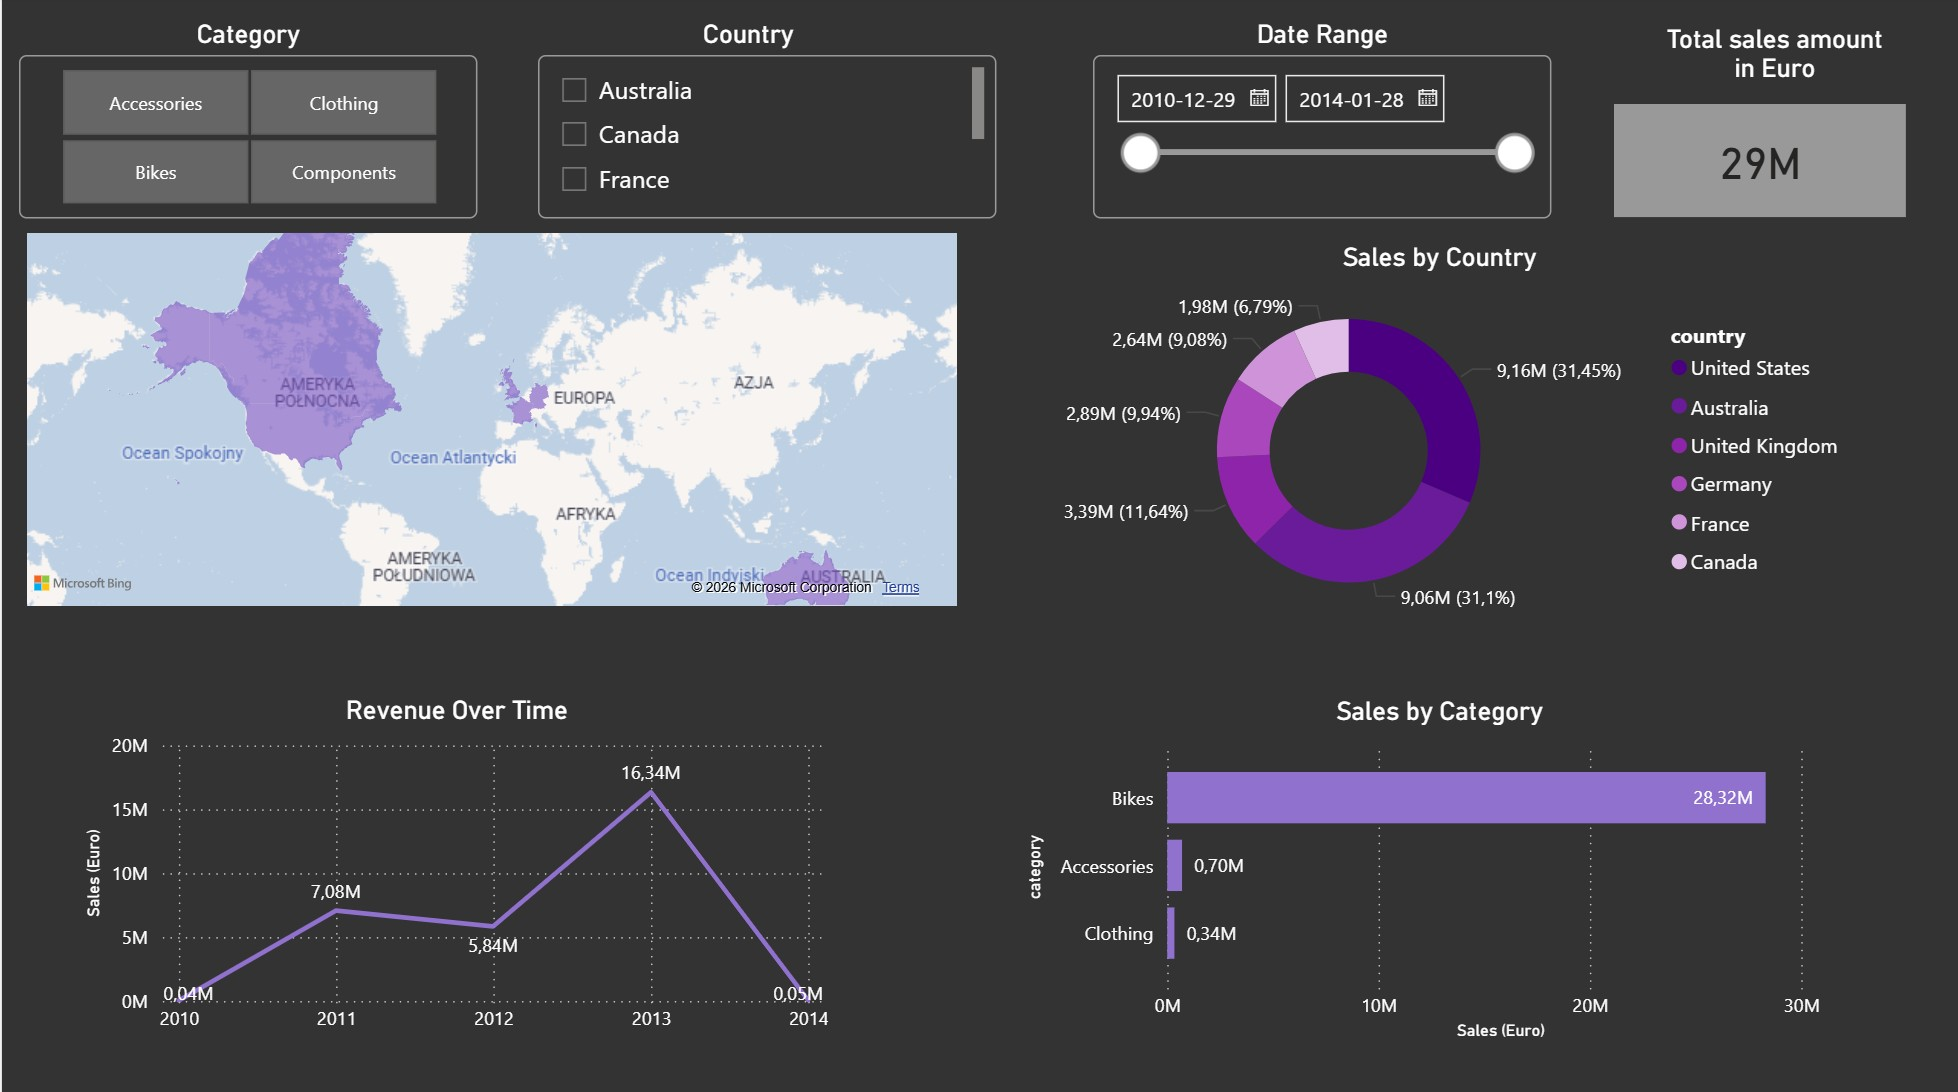

This screenshot's page, from the dashboard's own definition file:
{"tool":"powerbi","page":{"name":"Strona 1","canvas":[1280,720],"ordinal":0},"visuals":[{"type":"filledMap","fields":{"Category":["gold dim_customers.country"]},"box":[11.3,149.2,619.4,254.1],"z":0},{"type":"lineChart","title":"Revenue Over Time","fields":{"Y":["Sum(gold fact_sales.sales_amount)"],"Category":["gold fact_sales.order_date.Odmiana.Hierarchia dat.Rok","gold fact_sales.order_date.Odmiana.Hierarchia dat.Kwartał","gold fact_sales.order_date.Odmiana.Hierarchia dat.Miesiąc","gold fact_sales.order_date.Odmiana.Hierarchia dat.Dzień"]},"box":[49.9,456.9,495.9,230.3],"z":1000},{"type":"clusteredBarChart","title":"Sales by Category","fields":{"Category":["gold dim_products.category"],"Y":["Sum(gold fact_sales.sales_amount)"]},"box":[665.3,457.1,550.5,229.5],"z":2000},{"type":"donutChart","title":"Sales by Country ","fields":{"Category":["gold dim_customers.country"],"Y":["Sum(gold fact_sales.sales_amount)"]},"box":[665.7,160.5,550.5,254.1],"z":3000},{"type":"card","title":"Total Revenue","fields":{"Values":["Sum(gold fact_sales.sales_amount)"]},"box":[1054.7,70,191.4,74.1],"z":4000},{"type":"slicer","fields":{"Values":["gold dim_products.category"]},"box":[11.3,38.1,300.5,107],"z":5000},{"type":"textbox","box":[49.4,9.3,224.3,36],"z":6000},{"type":"slicer","fields":{"Values":["gold dim_customers.country"]},"box":[350.9,38.1,300.5,107],"z":7000},{"type":"textbox","box":[376.6,9.3,224.3,36],"z":8000},{"type":"slicer","fields":{"Values":["gold fact_sales.order_date"]},"box":[714.1,38.1,300.5,107],"z":9000},{"type":"textbox","box":[752.2,9.3,224.3,36],"z":10000},{"type":"textbox","box":[1082.4,12.3,155.4,51.4],"z":11000}]}

Visuals, with their boxes in screenshot pixels (x1, y1, x2, y2), scaled from the page's 1280x720 canvas onto the 1958x1092 screenshot:
filledMap - gold dim_customers.country: (x1=17, y1=226, x2=965, y2=612)
"Revenue Over Time" lineChart: (x1=76, y1=693, x2=835, y2=1042)
"Sales by Category" clusteredBarChart: (x1=1018, y1=693, x2=1860, y2=1041)
"Sales by Country " donutChart: (x1=1018, y1=243, x2=1860, y2=629)
"Total Revenue" card: (x1=1613, y1=106, x2=1906, y2=219)
slicer - gold dim_products.category: (x1=17, y1=58, x2=477, y2=220)
textbox: (x1=76, y1=14, x2=419, y2=69)
slicer - gold dim_customers.country: (x1=537, y1=58, x2=996, y2=220)
textbox: (x1=576, y1=14, x2=919, y2=69)
slicer - gold fact_sales.order_date: (x1=1092, y1=58, x2=1552, y2=220)
textbox: (x1=1151, y1=14, x2=1494, y2=69)
textbox: (x1=1656, y1=19, x2=1893, y2=97)
